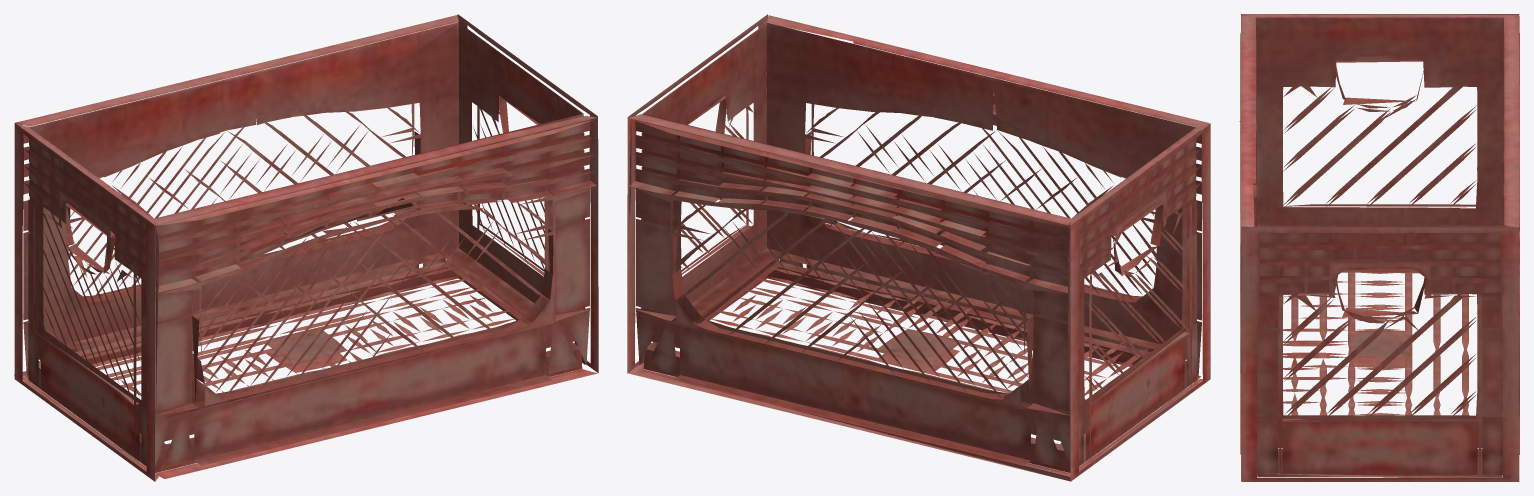
File: plastic_crate.glb
The picture shows the model from 3 angles, left to right: view 1: azimuth 30°, elevation 25°; view 2: azimuth 150°, elevation 25°; view 3: azimuth 270°, elevation 25°; orthographic projection.
Parts seen in each view (by area): view 1: plastic_crate; view 2: plastic_crate; view 3: plastic_crate.
Boxes of the visible parts, x1,y1,x2,y2 form: plastic_crate: (14,14,598,481); plastic_crate: (627,14,1210,481); plastic_crate: (1239,14,1519,481).
Size of the model in its own units: 0.4811 by 0.2666 by 0.2663.
Materials: 1 (1 with a texture image).
